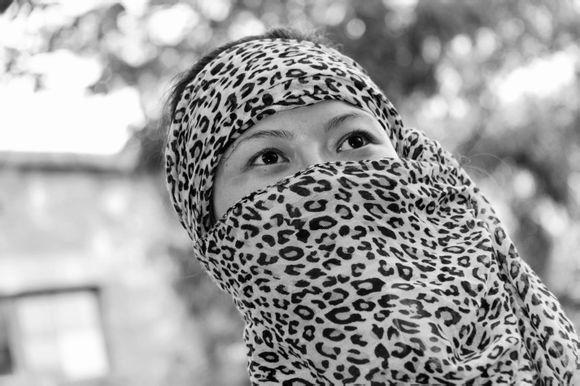OK: (220, 106, 404, 290)
